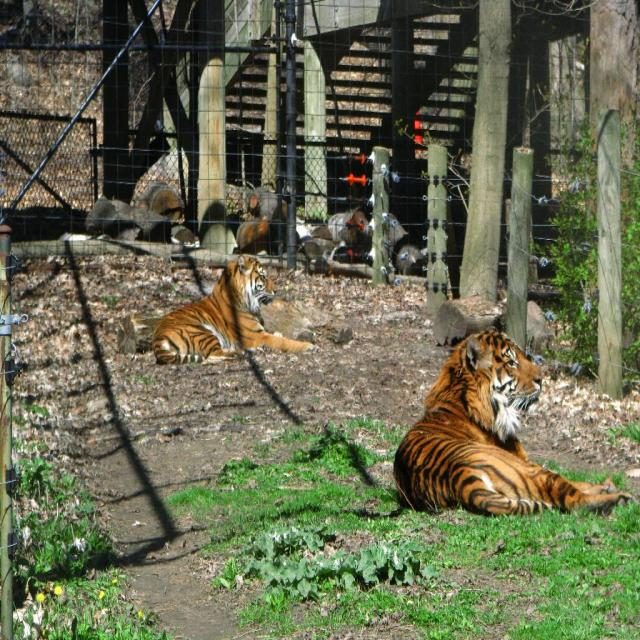Tiger: (392, 324, 627, 514), (152, 252, 320, 358)
